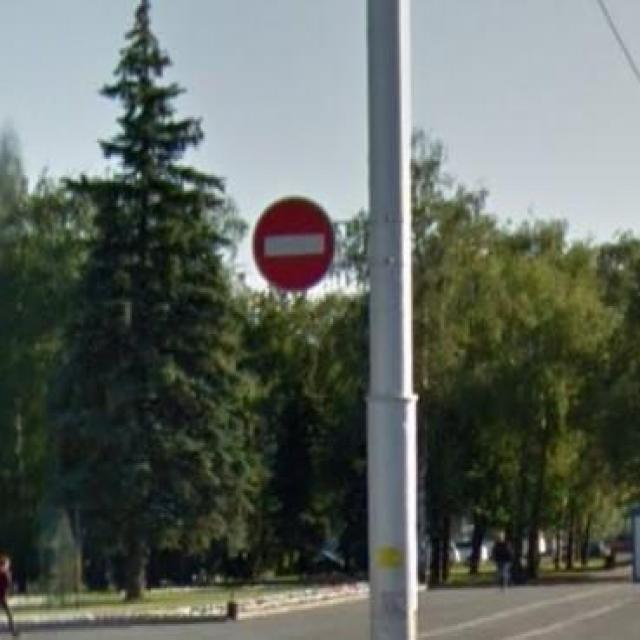do_not_enter: (252, 193, 338, 296)
